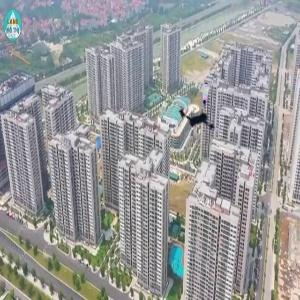drone: (167, 82, 227, 142)
